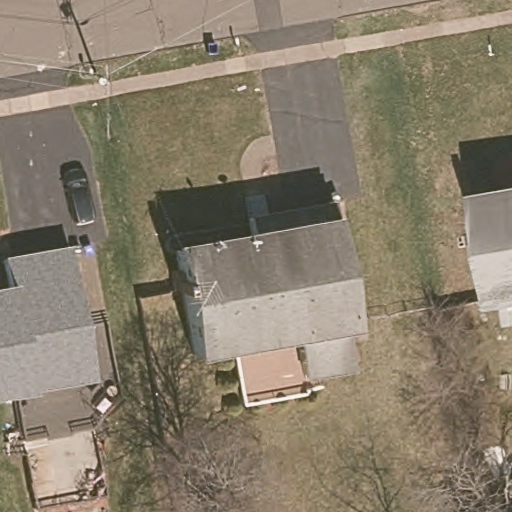DT: (79, 63, 111, 96)
